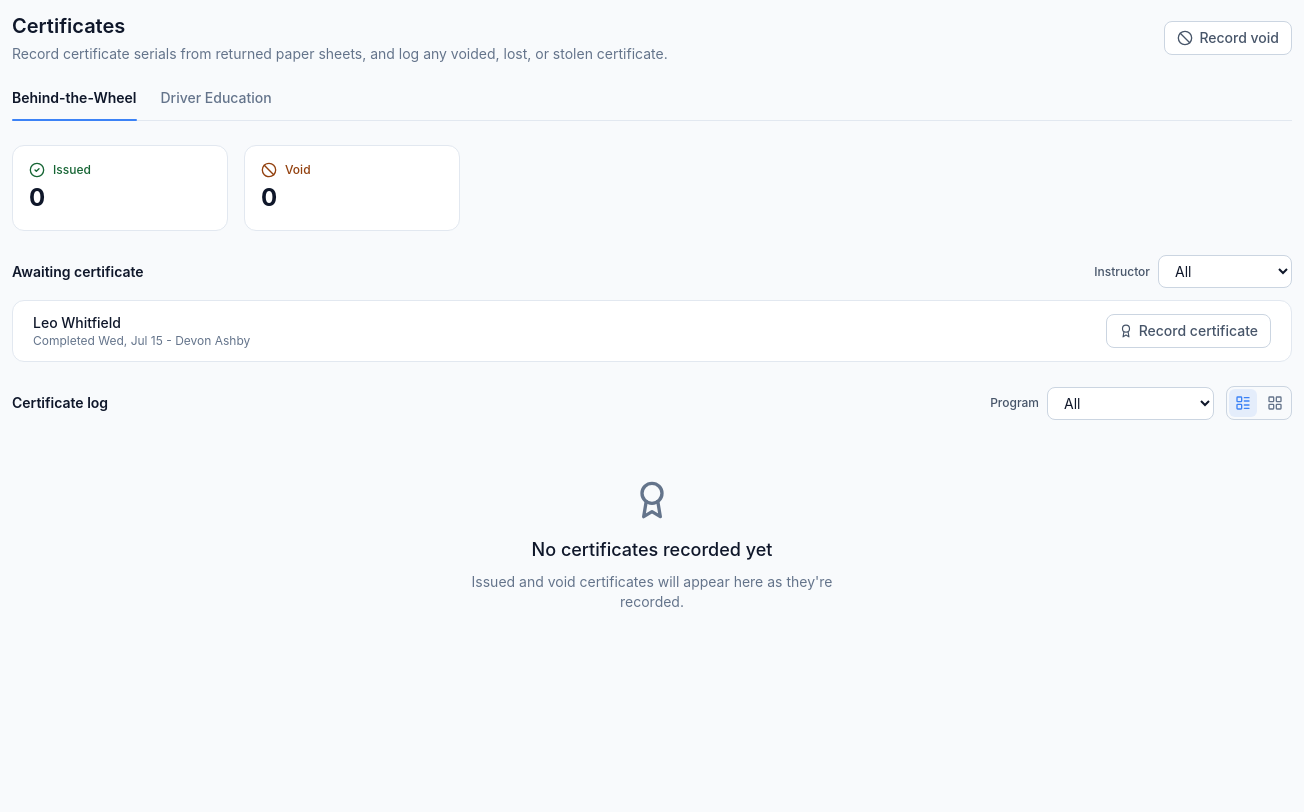
Certificates - worklist record form issue date default › defaults the issue date input to entry.completedAt, not today
Expected: the text "Leo Whitfield" is shown, [33, 314, 121, 331]
Click the button "Record certificate" at (77, 322), box [33, 313, 1271, 349]
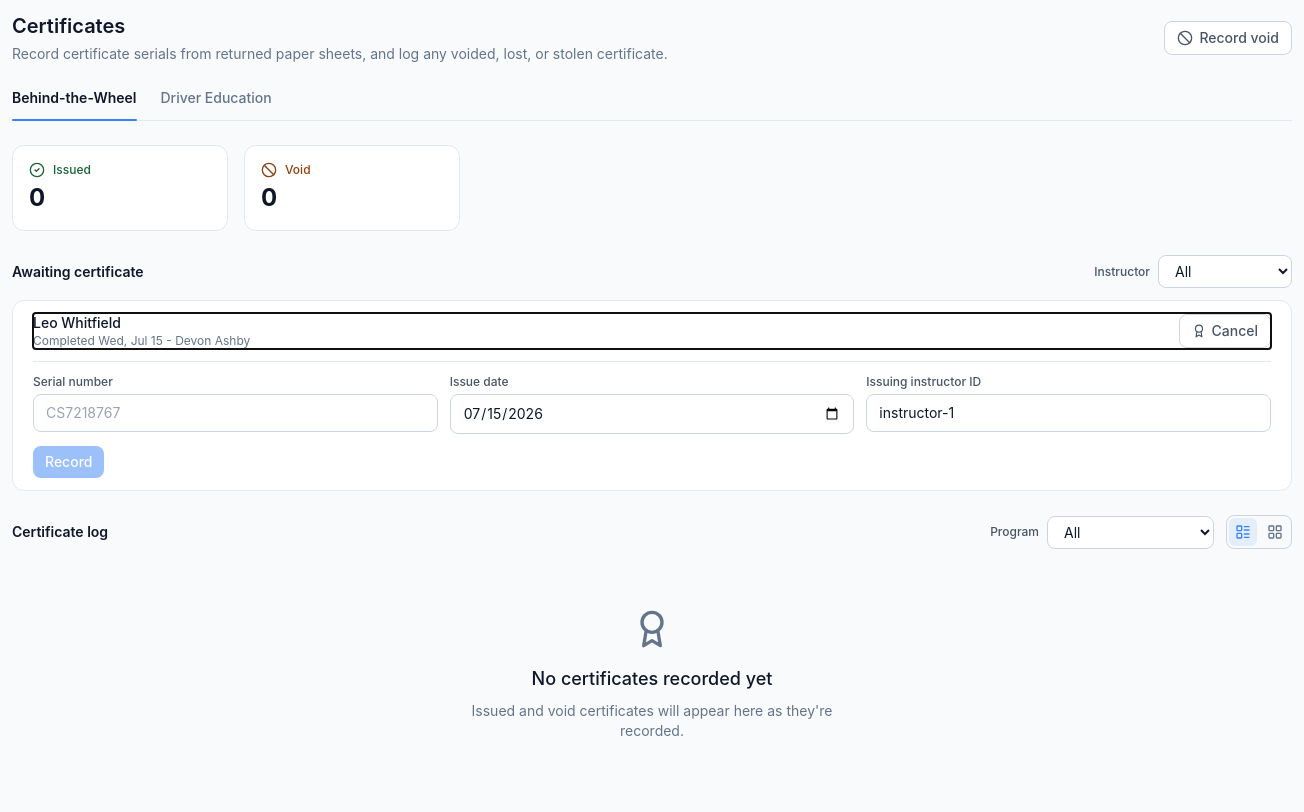
Now the date field labelled "Issue date" holds "2026-07-15", box [450, 394, 854, 434]
